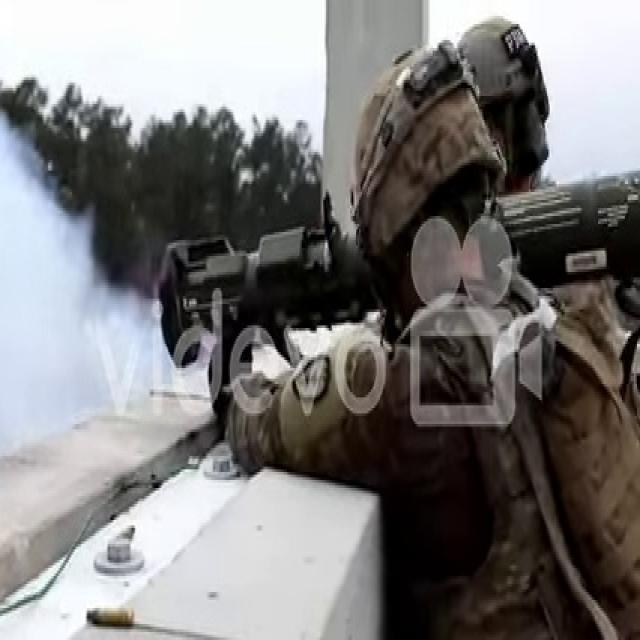bazooka: (160, 153, 640, 368)
